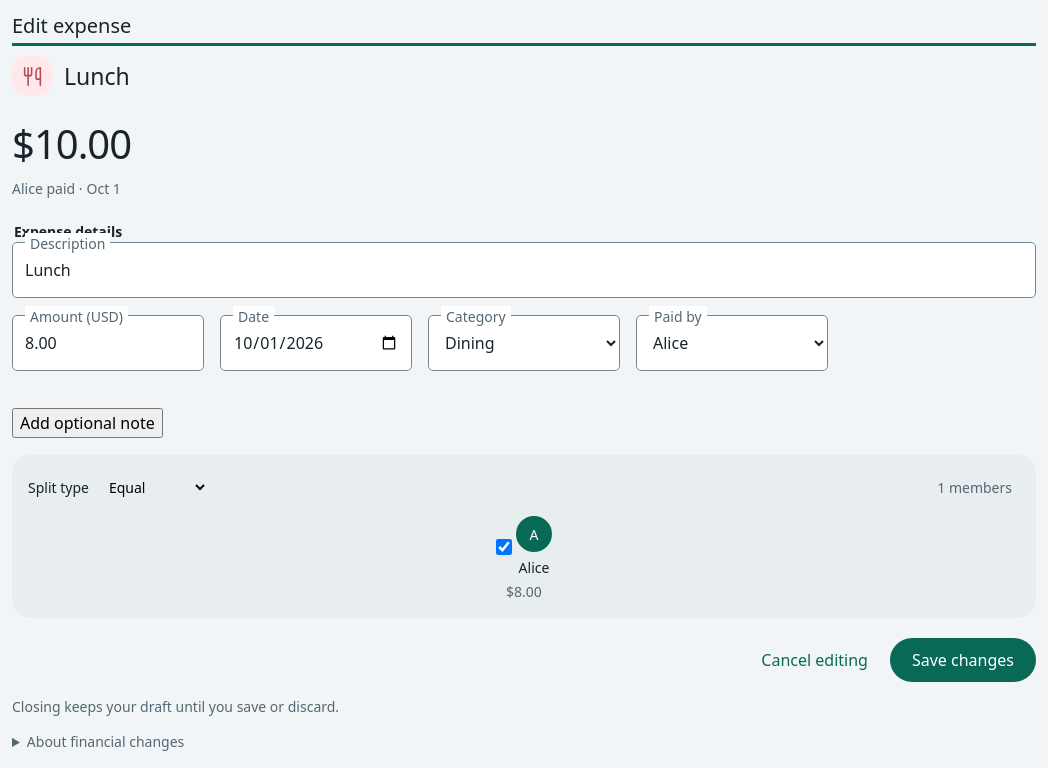
Test: keeps confirmed success and refreshes when clearing local recovery storage fails
What coordinates should you click on to do the following:
click the button "Save changes"
I would click on:
 (963, 660)
Its box is [890,638,1036,682].
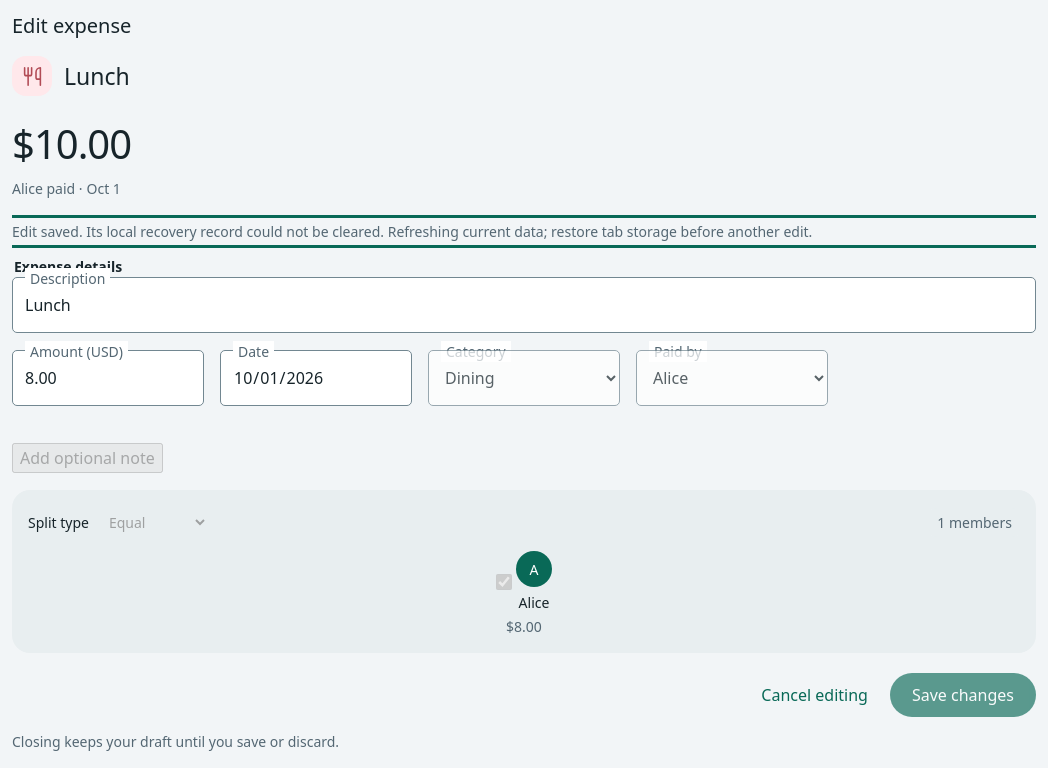
Now the text "Edit saved. Its local recovery record could not be cleared." is shown, box [12,222,812,241]
Now the button "Save changes" is disabled, box [890,673,1036,717]
Now the element that starts with "Expense details" is disabled, box [12,256,1036,653]
